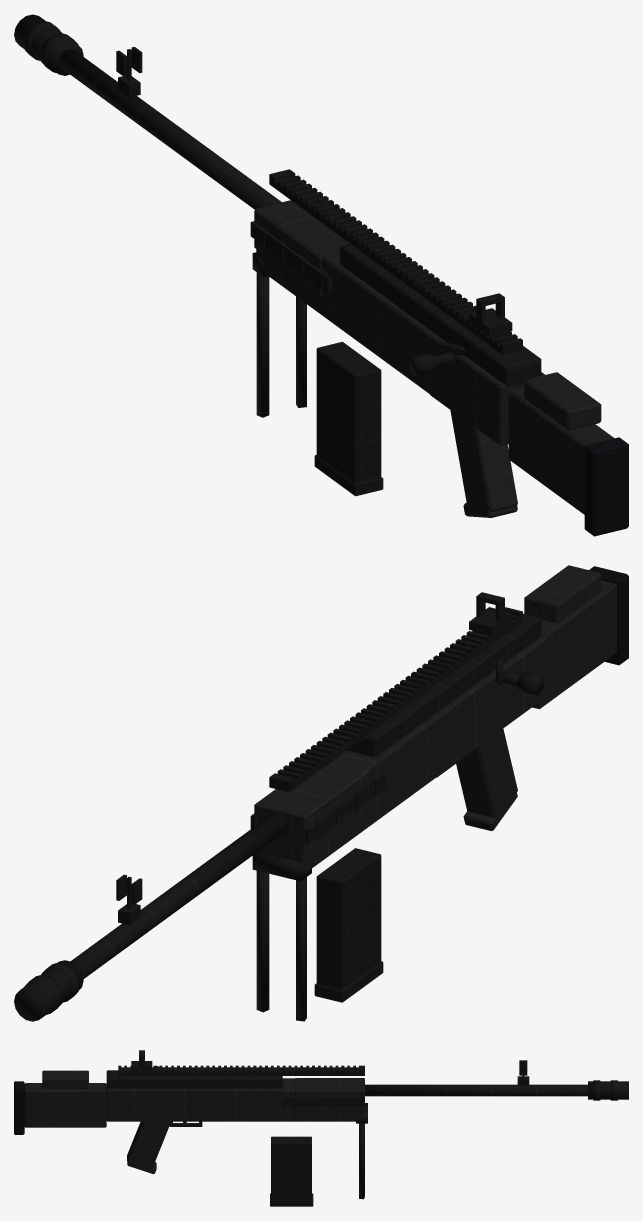
File: m14-ebr.glb
3 renders of one model, top to bottom at view 1: azimuth 30°, elevation 25°; view 2: azimuth 150°, elevation 25°; view 3: azimuth 270°, elevation 25°, orthographic. The views are drawn at different scales.
Visible parts, largest first — view 1: ebr_chassis, ebr_stock, ebr_magazine, ebr_top_rail, ebr_receiver, ebr_barrel, ebr_grip, ebr_buttpad, ebr_bipod, ebr_brake, ebr_side_rails, ebr_rear_sight (+2 smaller); view 2: ebr_chassis, ebr_magazine, ebr_stock, ebr_top_rail, ebr_barrel, ebr_receiver, ebr_bipod, ebr_grip, ebr_brake, ebr_side_rails, ebr_buttpad, ebr_rear_sight (+2 smaller); view 3: ebr_chassis, ebr_stock, ebr_magazine, ebr_barrel, ebr_top_rail, ebr_receiver, ebr_grip, ebr_brake, ebr_side_rails, ebr_buttpad, ebr_bipod, ebr_rear_sight (+1 smaller).
Part boxes in pixels (<box>): ebr_chassis: <box>254,200,544,445</box>; ebr_stock: <box>508,372,614,514</box>; ebr_magazine: <box>314,341,383,496</box>; ebr_top_rail: <box>269,169,522,354</box>; ebr_receiver: <box>340,243,541,408</box>; ebr_barrel: <box>58,49,281,209</box>; ebr_grip: <box>450,409,517,517</box>; ebr_buttpad: <box>584,437,628,536</box>; ebr_bipod: <box>252,252,306,417</box>; ebr_brake: <box>14,14,83,75</box>; ebr_side_rails: <box>250,221,332,292</box>; ebr_rear_sight: <box>469,293,512,336</box>; ebr_chassis: <box>254,636,546,873</box>; ebr_magazine: <box>314,848,383,1002</box>; ebr_stock: <box>524,565,616,709</box>; ebr_top_rail: <box>269,607,522,792</box>; ebr_barrel: <box>70,812,288,978</box>; ebr_receiver: <box>347,613,541,757</box>; ebr_bipod: <box>252,852,311,1021</box>; ebr_grip: <box>456,729,517,830</box>; ebr_brake: <box>14,960,83,1021</box>; ebr_side_rails: <box>250,772,386,844</box>; ebr_buttpad: <box>589,566,628,665</box>; ebr_rear_sight: <box>469,592,512,635</box>; ebr_chassis: <box>106,1078,364,1121</box>; ebr_stock: <box>24,1070,106,1127</box>; ebr_magazine: <box>270,1136,313,1206</box>; ebr_barrel: <box>365,1084,587,1096</box>; ebr_top_rail: <box>118,1065,364,1075</box>; ebr_receiver: <box>106,1070,282,1088</box>; ebr_grip: <box>127,1121,170,1174</box>; ebr_brake: <box>588,1080,628,1100</box>; ebr_side_rails: <box>282,1096,364,1106</box>; ebr_buttpad: <box>14,1081,24,1134</box>; ebr_bipod: <box>356,1103,367,1199</box>; ebr_rear_sight: <box>131,1050,152,1070</box>.
Size of the model in its own units: 0.096 by 0.282 by 1.05.
3 materials, 3 textured.
